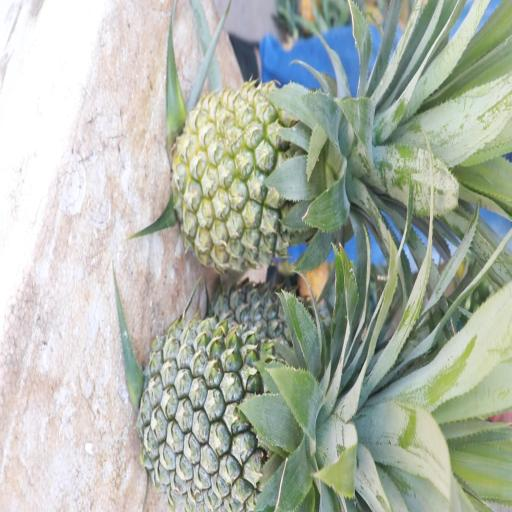Pineapple - v8 v1: (172, 86, 362, 272)
